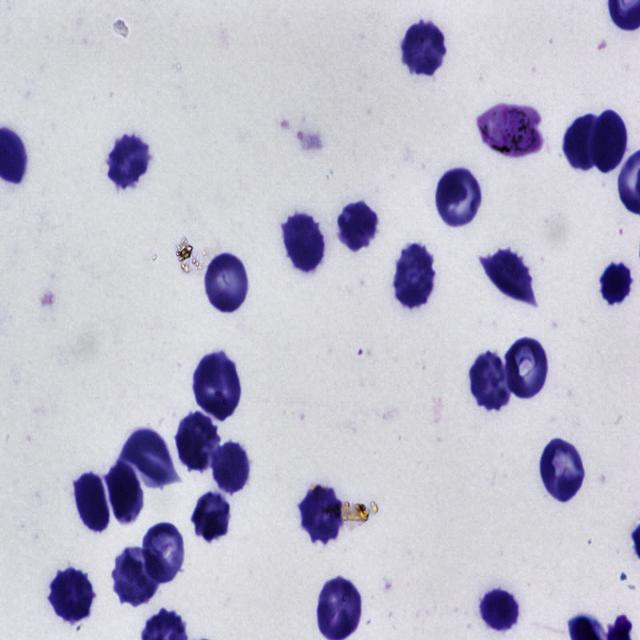gametocyte: (475, 104, 544, 158)
red blood cell: (192, 352, 244, 422), (536, 441, 587, 506), (120, 427, 178, 484), (434, 167, 484, 231), (480, 250, 537, 306), (315, 575, 363, 640), (503, 337, 549, 400), (112, 546, 158, 607), (175, 412, 222, 471), (401, 18, 448, 76), (393, 243, 436, 306), (300, 484, 344, 545), (142, 522, 185, 584), (283, 212, 326, 272), (108, 460, 147, 526), (469, 352, 512, 411), (205, 254, 248, 312), (48, 567, 93, 622), (106, 134, 148, 192), (562, 116, 604, 172), (75, 471, 111, 536), (592, 111, 626, 174), (212, 441, 252, 494), (337, 201, 377, 252), (189, 497, 230, 541), (478, 590, 519, 630), (600, 260, 634, 305)
